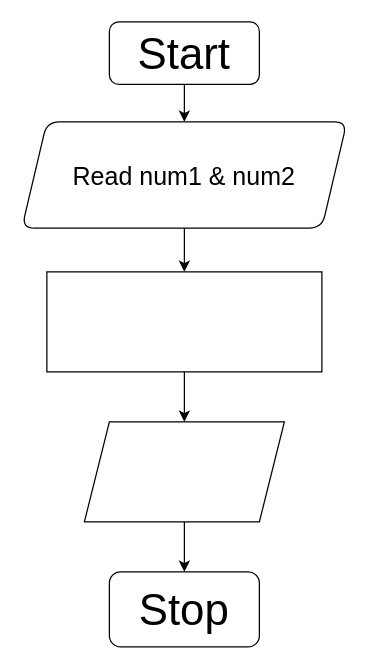
Image size: 369x669. Some labels were removed from this diagram. The shapes that lost their labels are listed below. From the top down, each one's centre as x and y in pixels, then its label:
At pixel 184 321: "result = num1 + num2".
At pixel 183 471: "print result".
